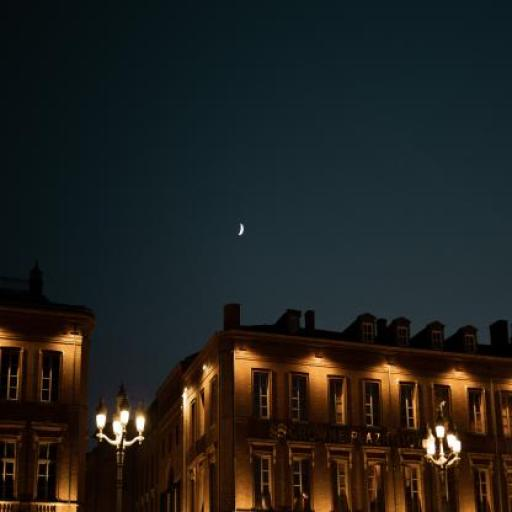street light: (94, 382, 146, 510), (420, 410, 464, 511)
